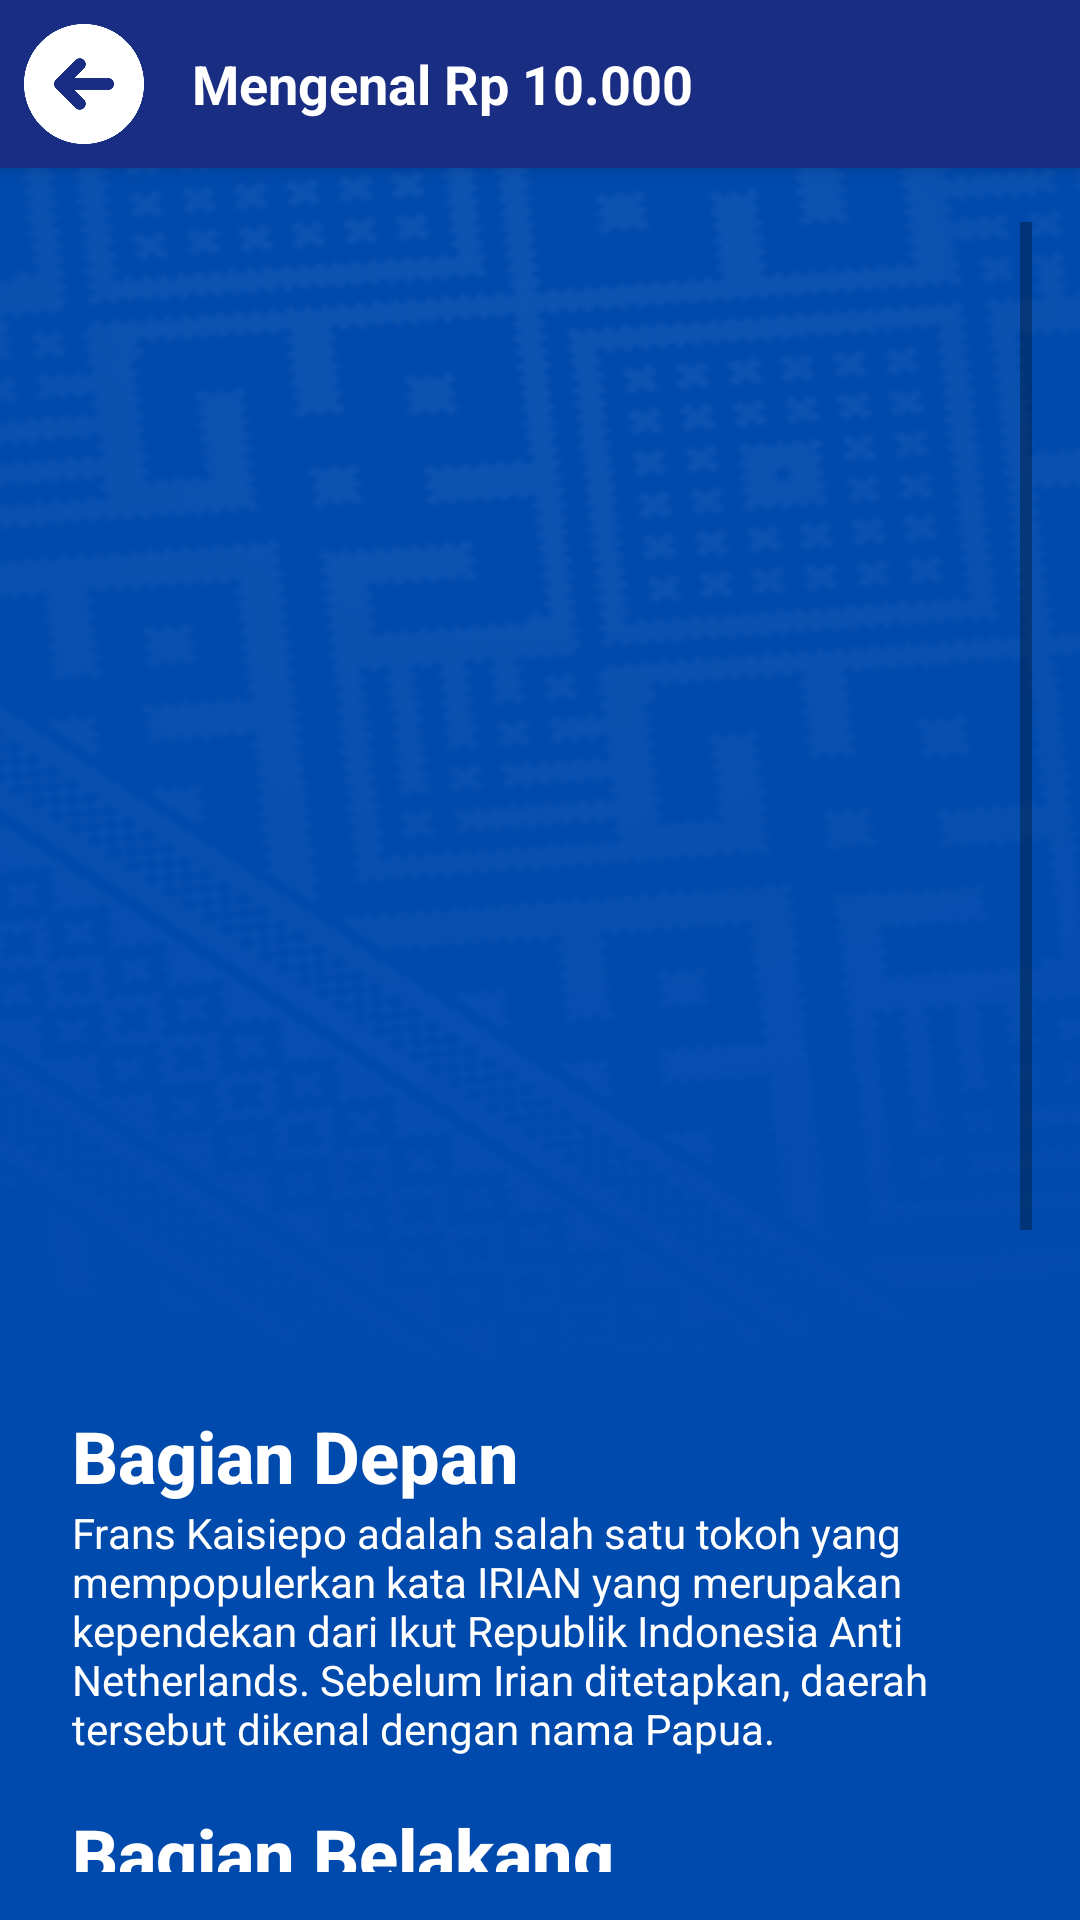

Named icons in this screenshot (1080px×1920px) and their bounding boxes, (x1=x1, y1=y1, x2=x2, y2=y2):
Tombol Kembali: (x1=24, y1=24, x2=144, y2=144)
